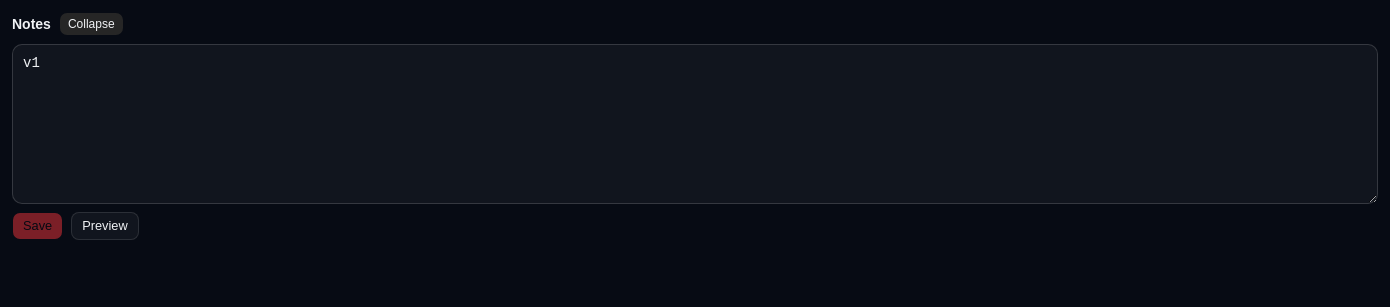
Test: NotesEditor › keeps a dirty buffer and shows the banner when notes change on disk
Replace the text in the text box named "Notes text" with "mine" at (695, 124), box [12, 44, 1378, 204]
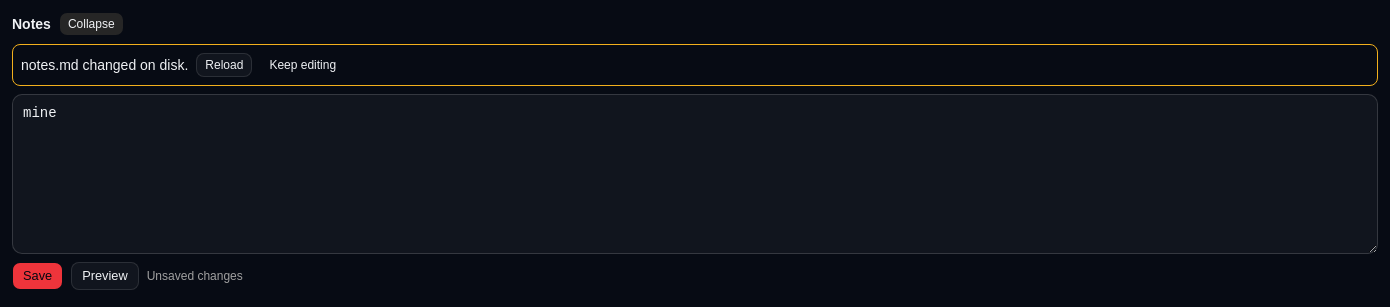
Expected: the text "notes.md changed on disk." is shown, [21, 55, 188, 75]
